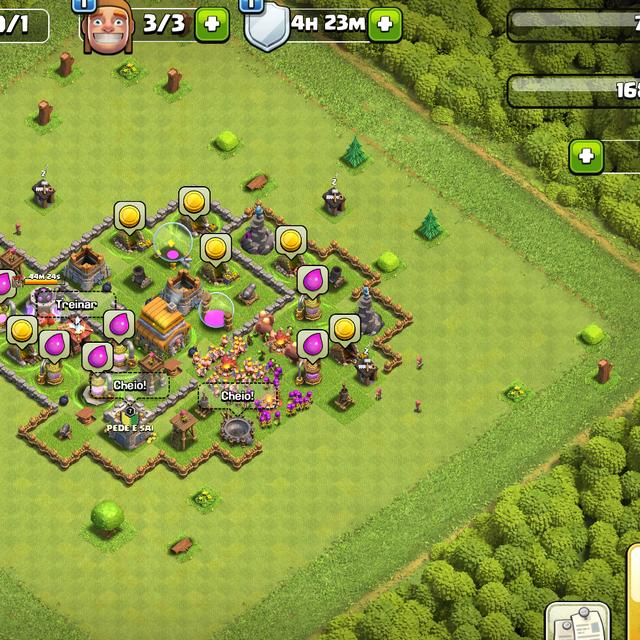Elixir: (296, 330, 328, 366), (297, 266, 329, 301), (104, 310, 135, 345), (39, 330, 69, 364), (82, 342, 113, 372), (0, 270, 16, 306)
coin: (276, 225, 310, 260), (114, 200, 146, 236), (180, 186, 212, 222), (330, 314, 361, 349), (8, 316, 38, 350), (202, 234, 231, 266)
